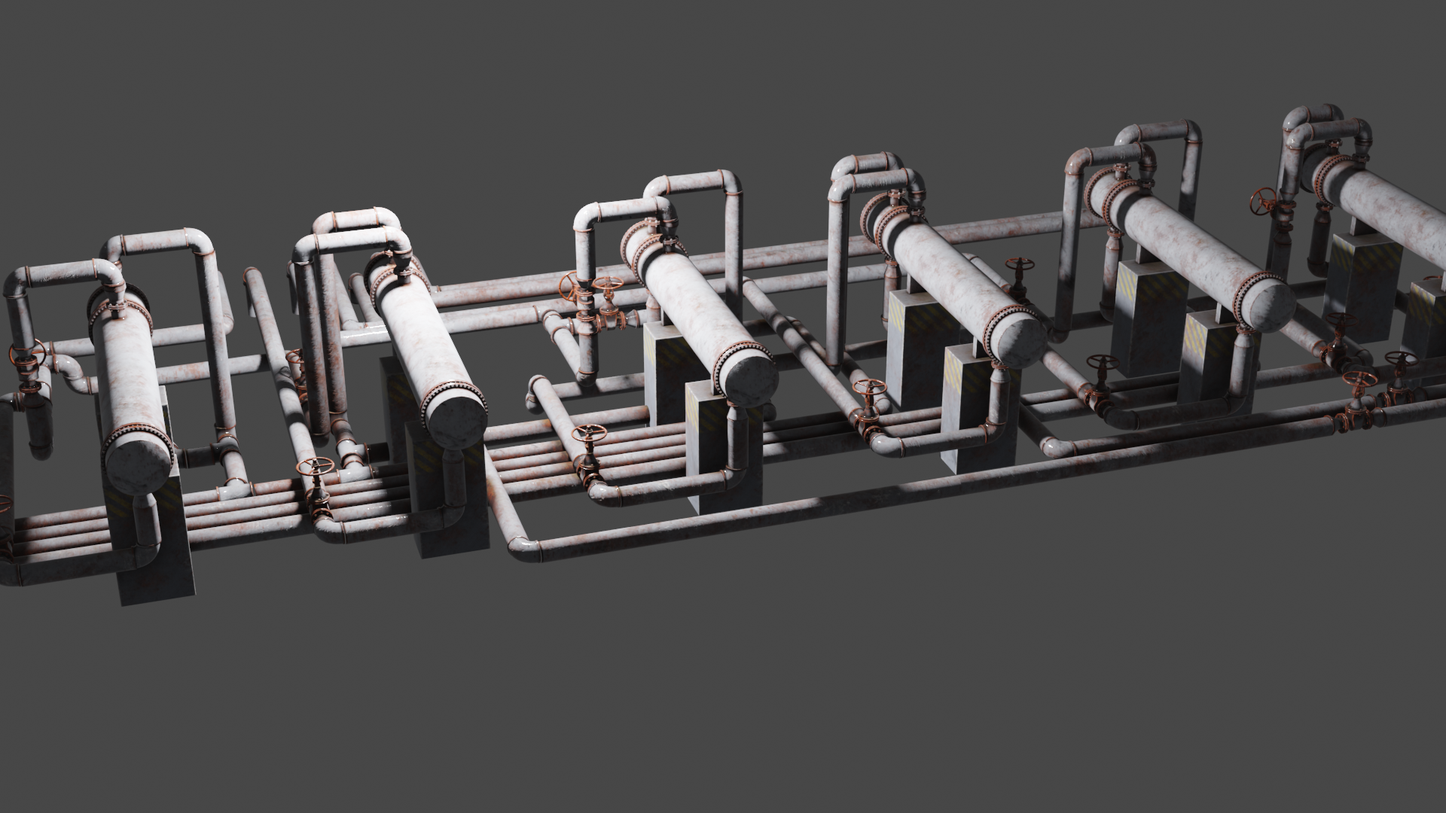HE_1: (1294, 139, 1444, 274)
HE_2: (1083, 159, 1296, 330)
HE_3: (856, 187, 1052, 362)
HE_4: (617, 209, 780, 410)
HE_5: (360, 244, 489, 447)
HE_6: (86, 280, 175, 497)
